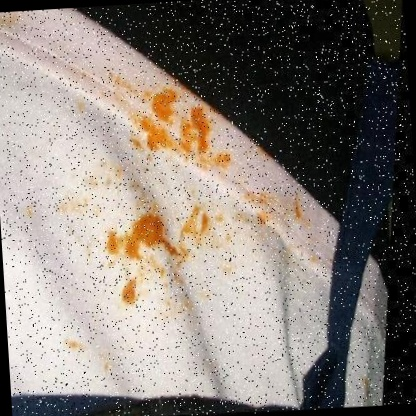kimchi: (99, 194, 219, 307), (116, 108, 218, 172), (228, 192, 313, 235), (104, 85, 182, 113), (56, 168, 111, 199), (276, 238, 320, 271), (218, 247, 246, 289), (95, 70, 141, 91), (62, 332, 100, 357), (0, 12, 26, 30), (217, 147, 235, 171), (76, 94, 91, 119), (358, 377, 374, 399), (22, 201, 38, 218)
